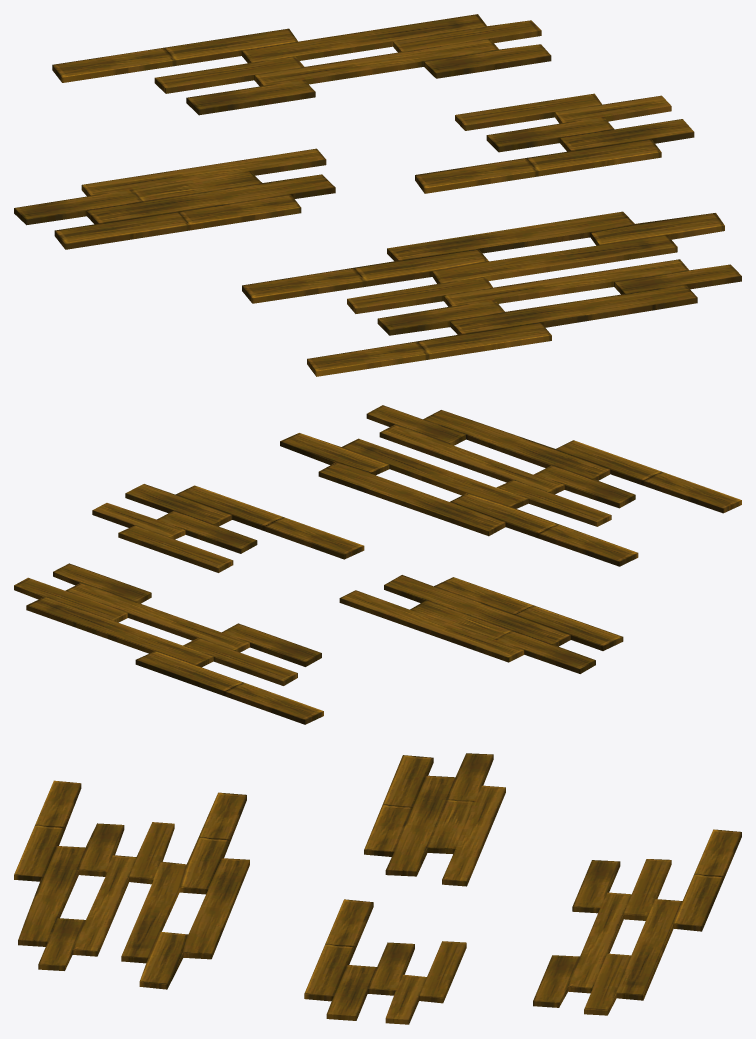
File: HTOWN01_CHICKENCOOPCREAKBOARDS.fbx
3 renders of one model, top to bottom at view 1: azimuth 30°, elevation 25°; view 2: azimuth 150°, elevation 25°; view 3: azimuth 270°, elevation 25°, orthographic. The views are drawn at different scales.
Visible parts, largest first — view 1: HTOWN01_CHICKENCOOPCREAKBOARDS; view 2: HTOWN01_CHICKENCOOPCREAKBOARDS; view 3: HTOWN01_CHICKENCOOPCREAKBOARDS.
Boxes of the visible parts, x1,y1,x2,y2 form: HTOWN01_CHICKENCOOPCREAKBOARDS: [14, 14, 741, 376]; HTOWN01_CHICKENCOOPCREAKBOARDS: [14, 405, 741, 724]; HTOWN01_CHICKENCOOPCREAKBOARDS: [14, 753, 741, 1024].
Size of the model in its own units: 55056 by 470 by 63531.
Materials: 1 (1 with a texture image).
